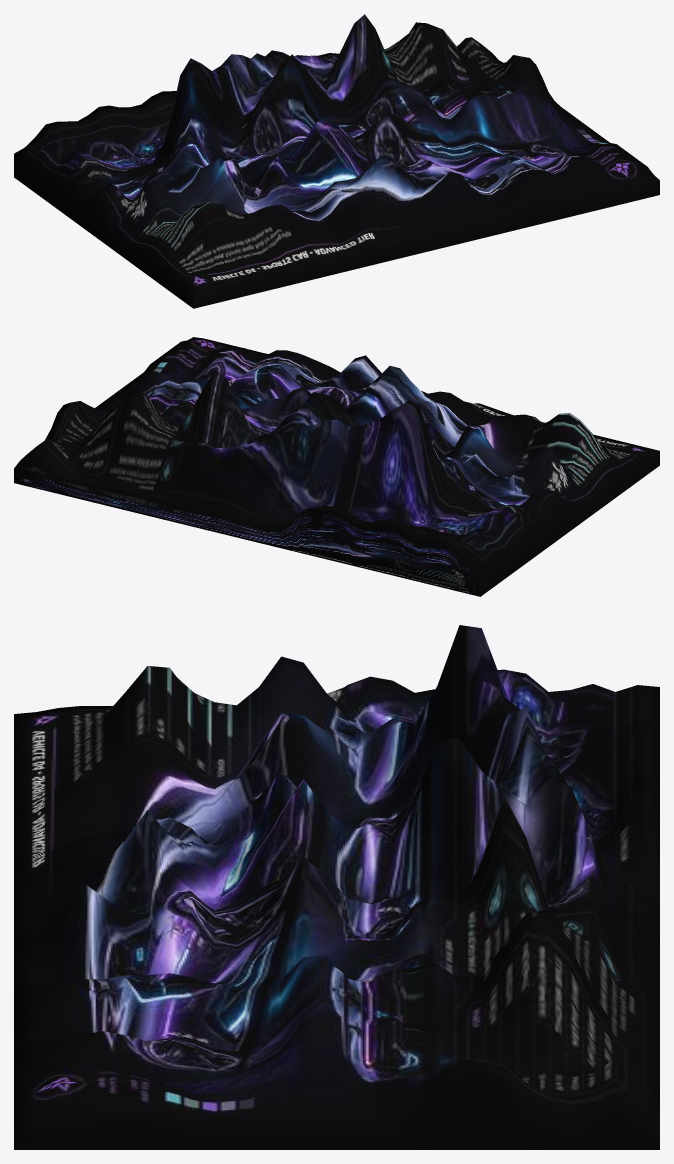
The model's file is VEHICLE_04_Sports_Car.glb.
3 renders of one model, top to bottom at view 1: azimuth 30°, elevation 25°; view 2: azimuth 150°, elevation 25°; view 3: azimuth 270°, elevation 25°, orthographic. The views are drawn at different scales.
Parts seen in each view (by area): view 1: VEHICLE_04_Sports_Car; view 2: VEHICLE_04_Sports_Car; view 3: VEHICLE_04_Sports_Car.
Part boxes in pixels (left/top/right/bottom): VEHICLE_04_Sports_Car: left=14, top=14, right=659, bottom=308; VEHICLE_04_Sports_Car: left=14, top=337, right=659, bottom=596; VEHICLE_04_Sports_Car: left=14, top=625, right=659, bottom=1149.
Bounding box in the file's own units: 2 × 0.51 × 1.33.
1 material, 1 textured.
